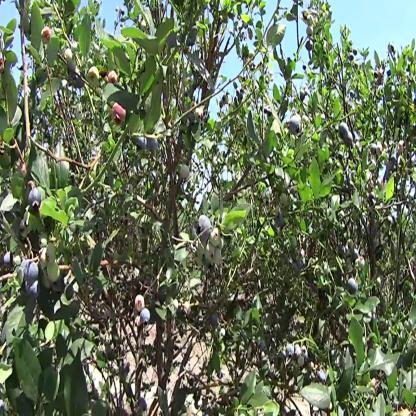mature: (25, 258, 41, 298), (284, 344, 308, 369), (338, 121, 358, 149), (197, 215, 211, 237), (292, 113, 303, 135), (28, 192, 44, 207), (349, 280, 358, 297), (139, 308, 150, 321)
young: (42, 247, 62, 280), (209, 232, 223, 269), (135, 296, 145, 313), (357, 256, 365, 271)
